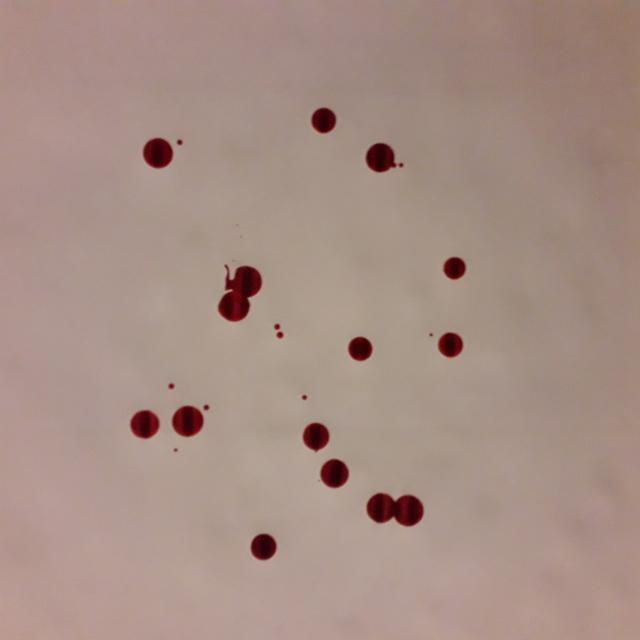wound: (288, 402, 456, 562), (288, 70, 424, 192), (107, 374, 233, 472), (424, 232, 500, 384), (194, 253, 306, 352), (212, 507, 282, 586), (123, 113, 192, 186), (332, 313, 390, 383)
